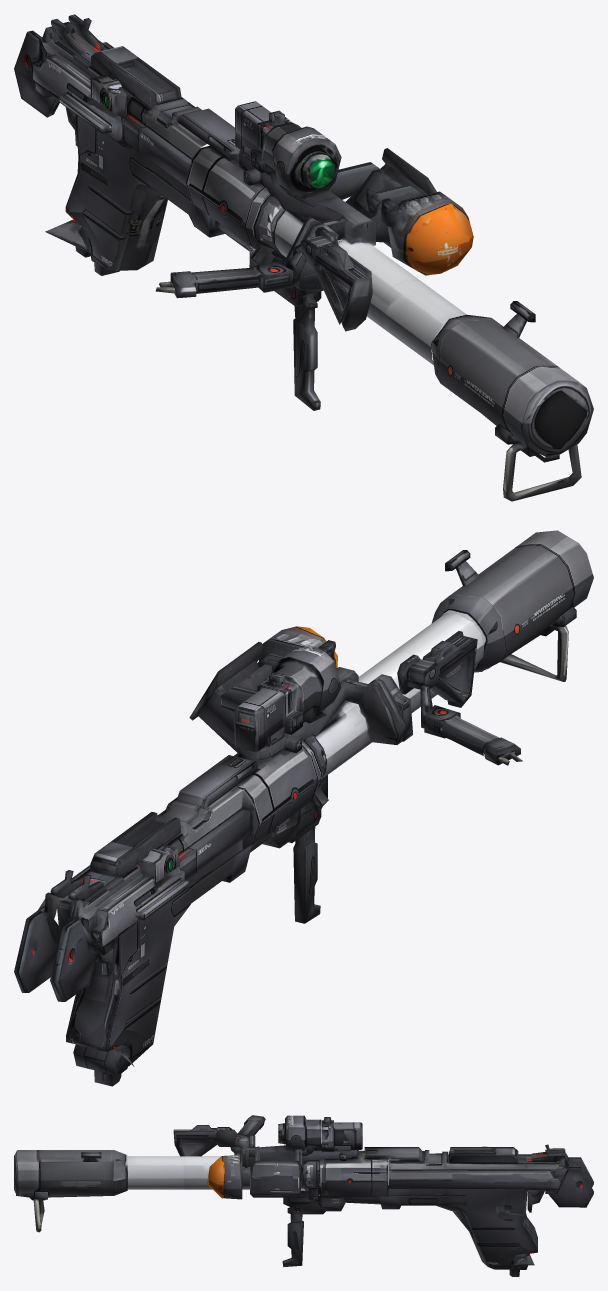
The picture shows the model from 3 angles, top to bottom: view 1: azimuth 30°, elevation 25°; view 2: azimuth 150°, elevation 25°; view 3: azimuth 270°, elevation 25°; orthographic projection. The views are drawn at different scales.
Visible parts, largest first — view 1: gun; view 2: gun; view 3: gun.
Boxes of the visible parts, <box> form: gun: <box>14,14,593,501</box>; gun: <box>14,530,593,1086</box>; gun: <box>14,1115,593,1276</box>.
Bounding box in the file's own units: 2.54 × 2.33 × 7.78.
Materials: 1 (1 with a texture image).
